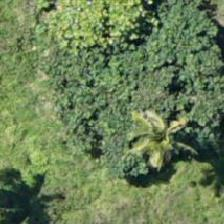coconut_tree: (112, 81, 202, 171), (6, 175, 96, 223)
